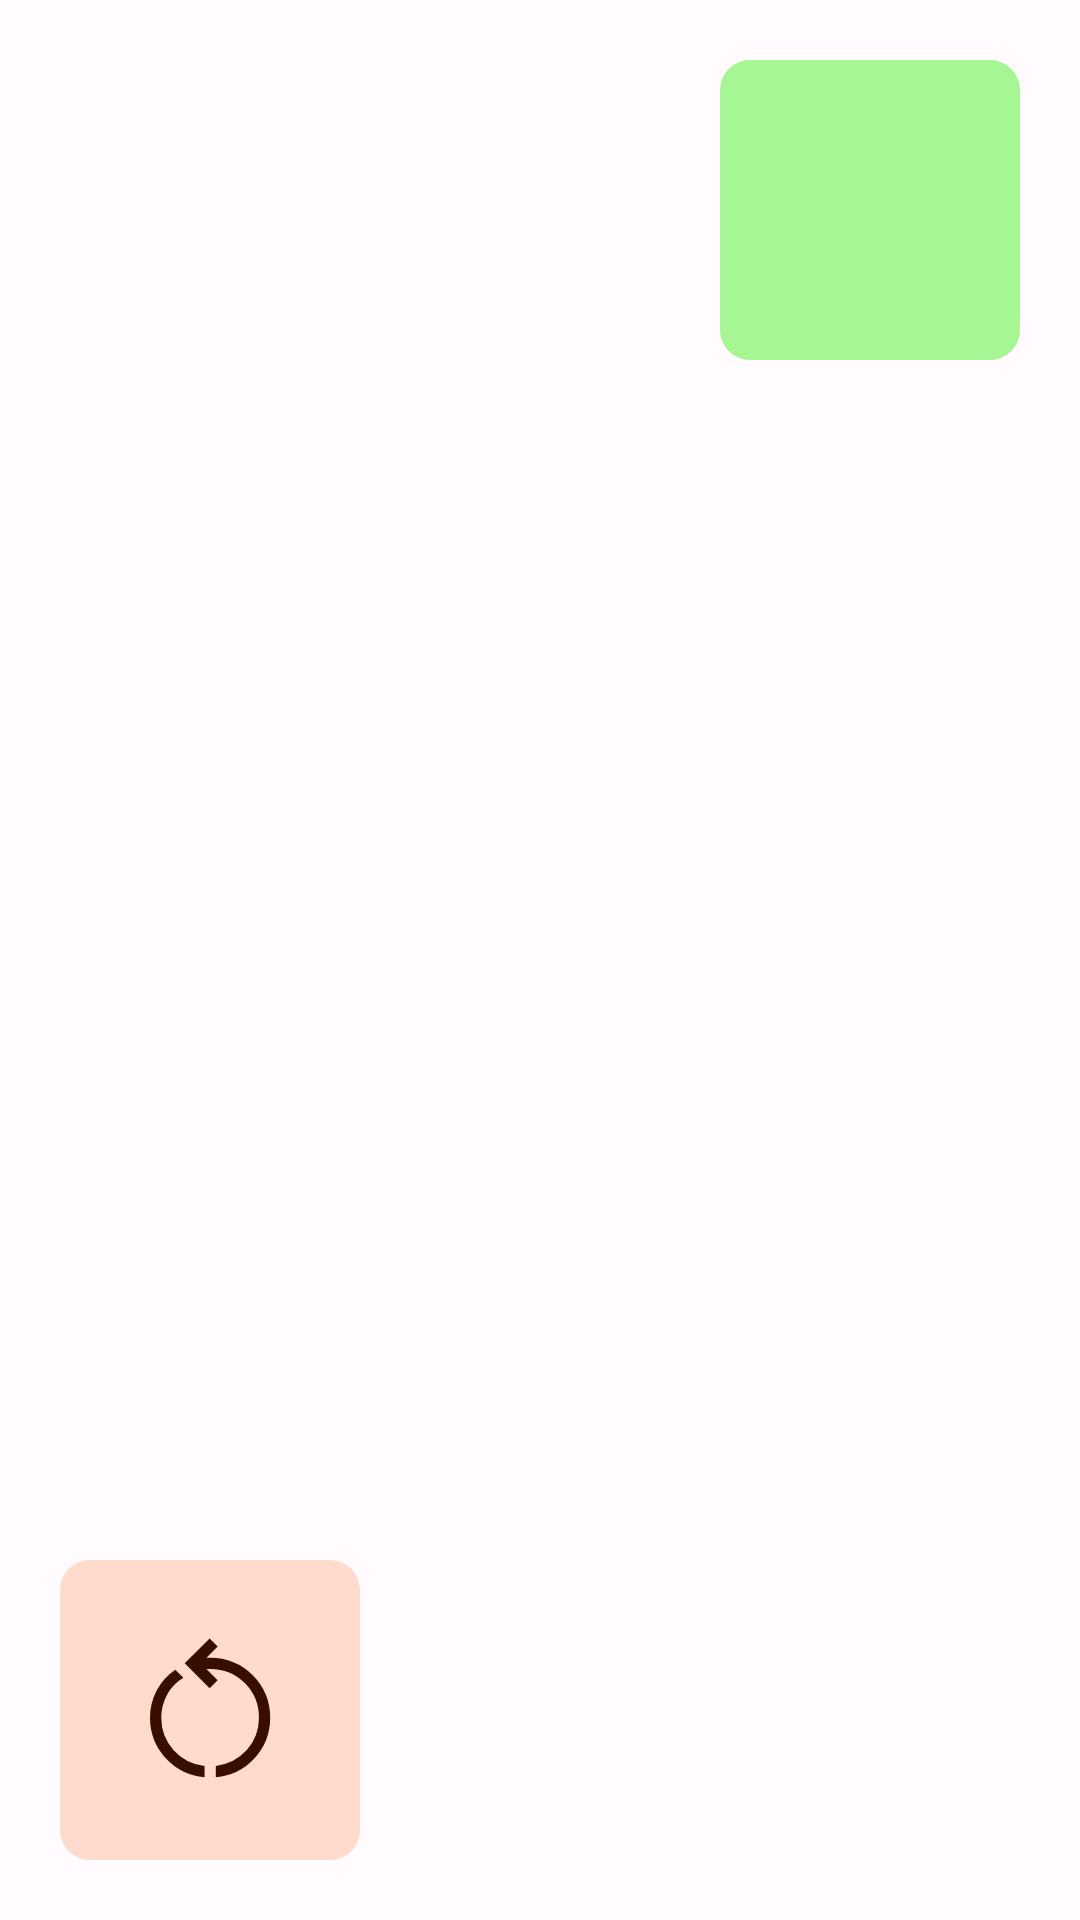

Screen size 1080x1920. Icon name, then its box in pixels as (x1, y1, x2, y2):
Resets the current timer: (60, 1560, 360, 1860)
